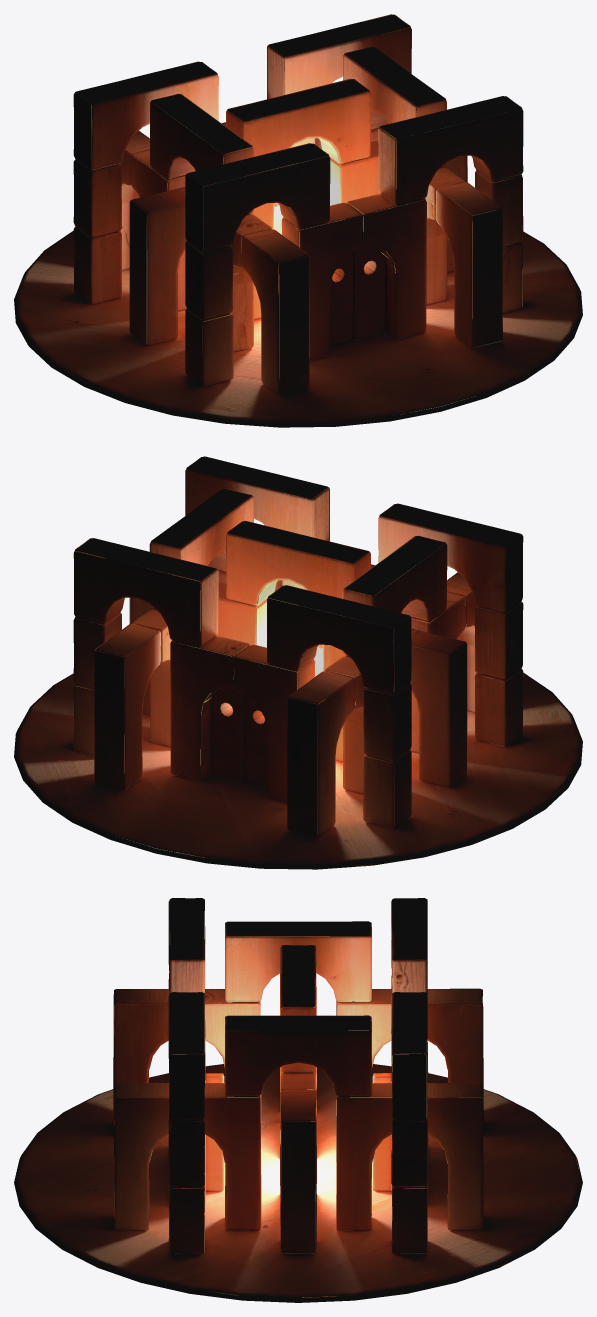
Rendered from catacumba.glb.
The picture shows the model from 3 angles, top to bottom: view 1: azimuth 30°, elevation 25°; view 2: azimuth 150°, elevation 25°; view 3: azimuth 270°, elevation 25°; orthographic projection.
Parts seen in each view (by area): view 1: Circle.003_wood_0; view 2: Circle.003_wood_0; view 3: Circle.003_wood_0.
Part boxes in pixels (x1,y1,x2,y2): Circle.003_wood_0: [14, 14, 582, 427]; Circle.003_wood_0: [14, 456, 582, 869]; Circle.003_wood_0: [14, 898, 582, 1302].
Bounding box in the file's own units: 15.35 × 6.17 × 15.35.
Materials: 1 (1 with a texture image).
